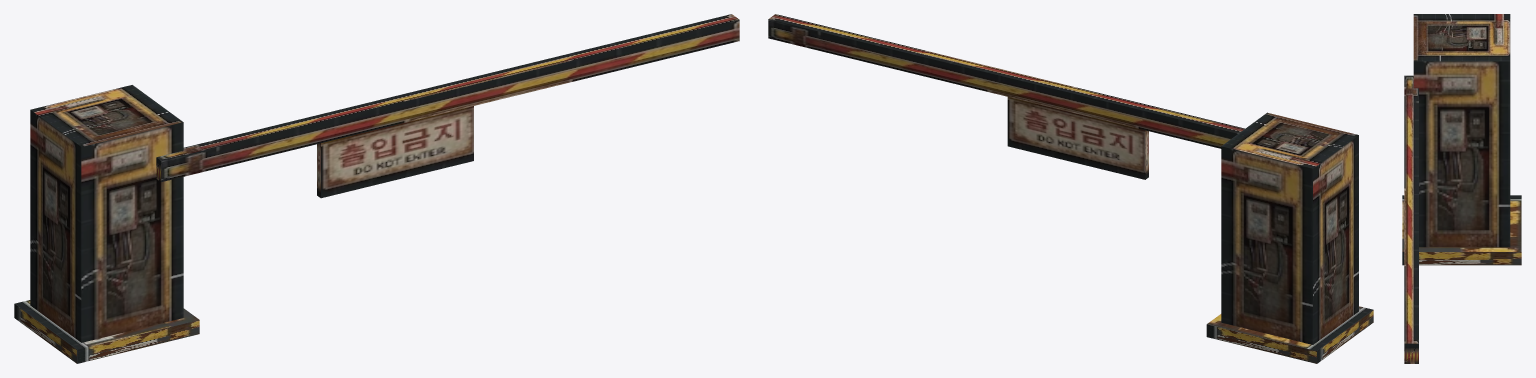
Rendered from sf_anim_parking_gate.glb.
3 renders of one model, left to right at view 1: azimuth 30°, elevation 25°; view 2: azimuth 150°, elevation 25°; view 3: azimuth 270°, elevation 25°, orthographic. The views are drawn at different scales.
Parts seen in each view (by area): view 1: ElectricParkingGate_Root, ElectricParkingGate_AnimPart; view 2: ElectricParkingGate_Root, ElectricParkingGate_AnimPart; view 3: ElectricParkingGate_Root, ElectricParkingGate_AnimPart.
Part boxes in pixels (x1,y1,x2,y2): ElectricParkingGate_Root: (14, 85, 199, 363); ElectricParkingGate_AnimPart: (156, 14, 739, 198); ElectricParkingGate_Root: (1206, 112, 1373, 363); ElectricParkingGate_AnimPart: (768, 14, 1244, 179); ElectricParkingGate_Root: (1402, 14, 1521, 265); ElectricParkingGate_AnimPart: (1404, 75, 1418, 363).
Size of the model in its own units: 3.9 by 1.18 by 0.64.
Materials: 1 (1 with a texture image).
